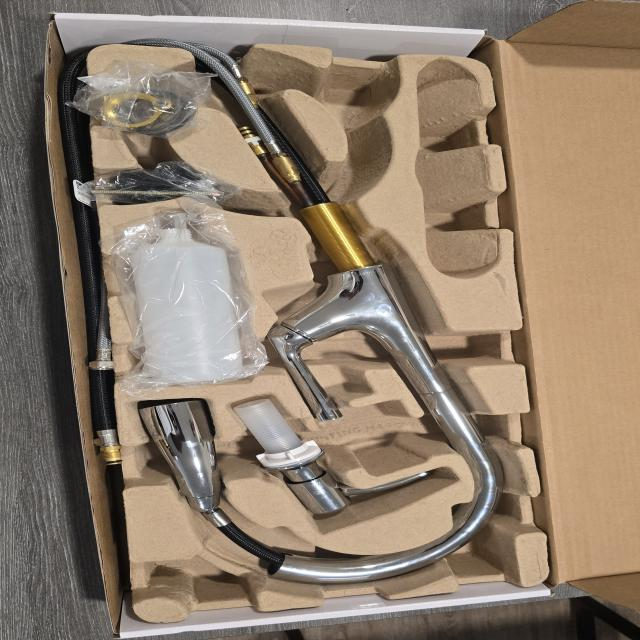1: (139, 45, 505, 584)
2: (231, 398, 432, 517)
3: (128, 213, 241, 387)
4m: (413, 58, 499, 278)
5m: (317, 72, 400, 126)
6: (68, 56, 217, 141)
7: (74, 160, 238, 206)
